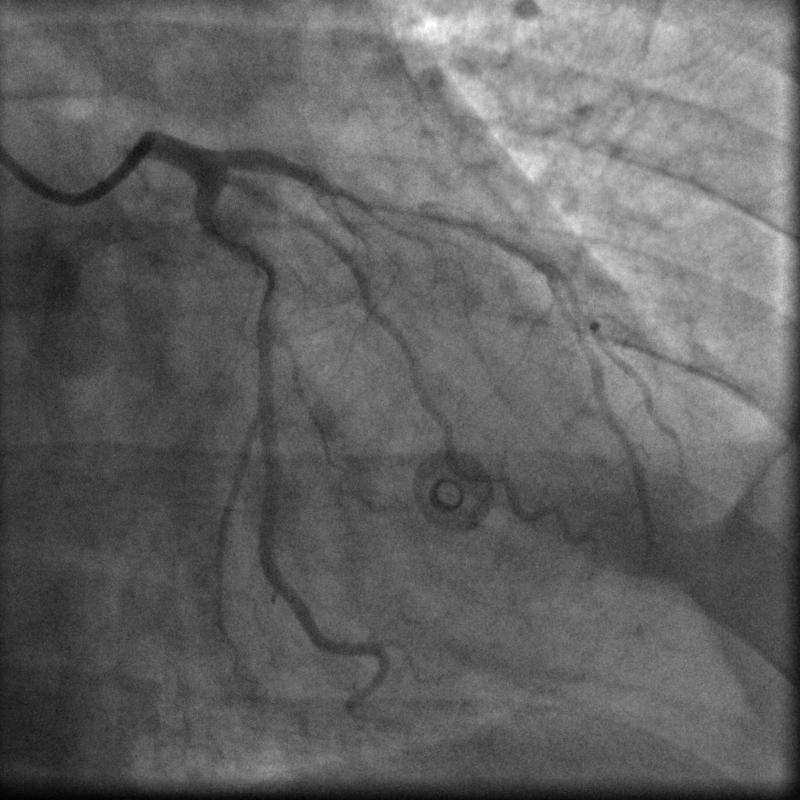Stenosis: (342, 186, 433, 225)
